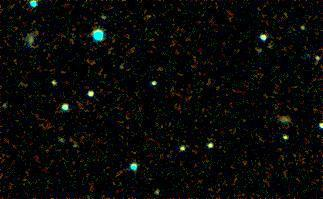star: (267, 127, 297, 157)
